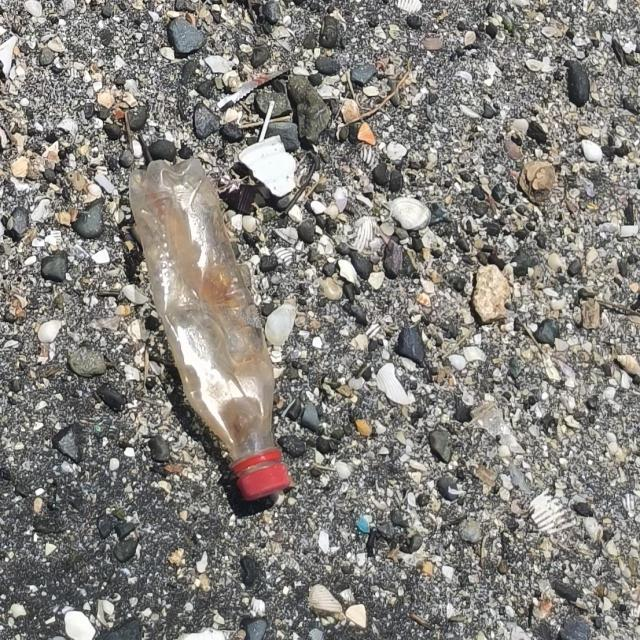plastic_waste: (128, 158, 292, 503)
